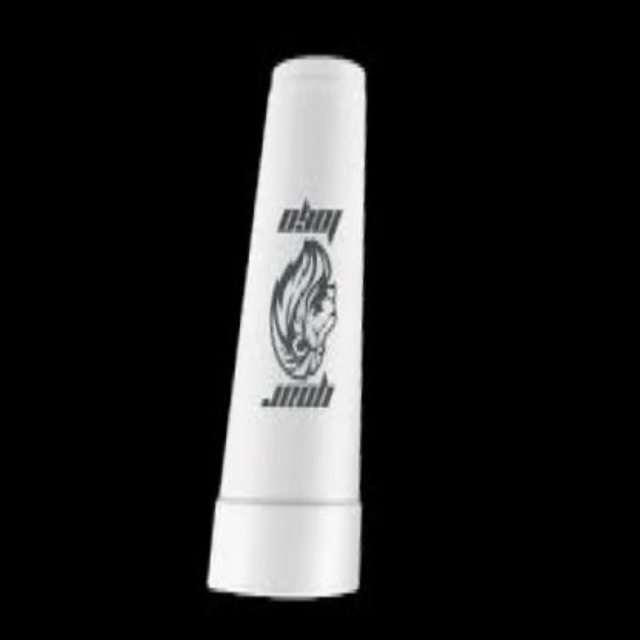trash: (208, 55, 365, 595)
